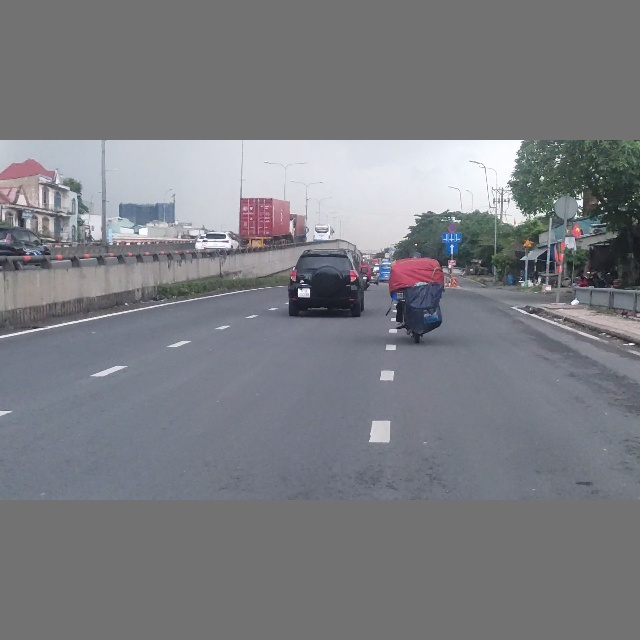I.407a: (446, 242, 458, 254)
P.130: (448, 224, 457, 233)
W.246a: (523, 239, 532, 247)
